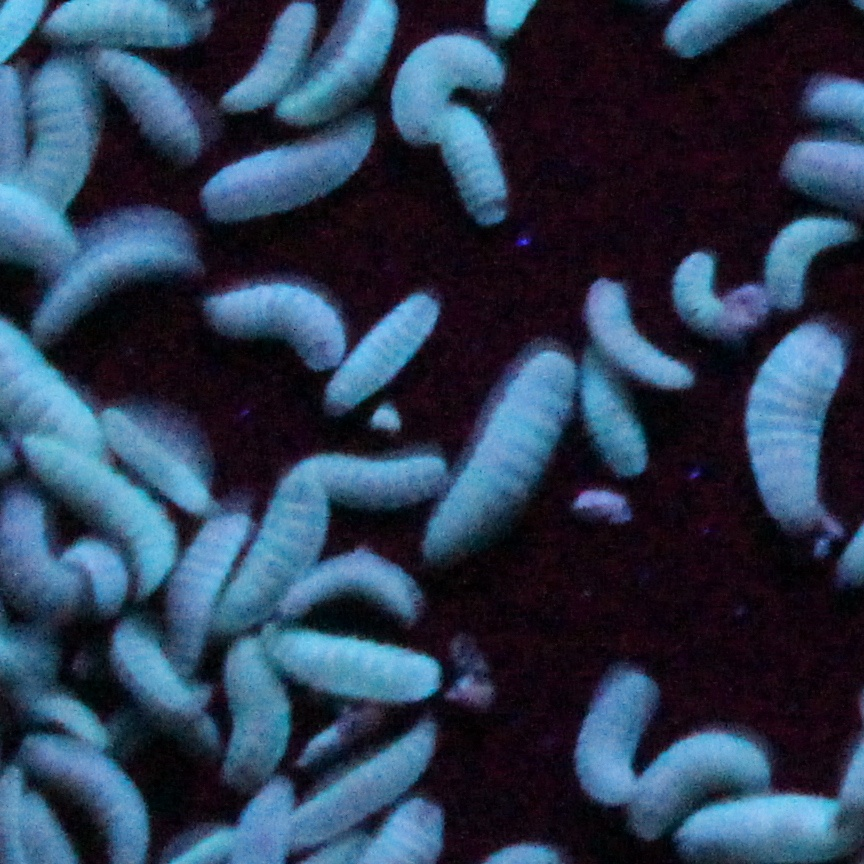larve: (422, 346, 590, 562), (10, 419, 181, 594), (190, 117, 385, 223), (281, 721, 442, 846), (215, 462, 338, 621), (626, 726, 788, 828), (569, 271, 699, 392), (199, 273, 360, 369), (40, 223, 181, 328), (165, 514, 253, 673), (265, 626, 444, 703), (90, 46, 215, 155), (331, 276, 435, 401), (103, 621, 217, 735), (576, 664, 658, 814), (278, 546, 428, 626), (108, 405, 215, 517), (397, 37, 499, 137), (219, 639, 290, 782), (435, 103, 515, 226), (765, 217, 856, 317), (303, 451, 456, 507), (674, 244, 769, 330), (583, 360, 653, 473), (28, 680, 108, 751), (67, 542, 133, 612), (569, 482, 644, 526)
